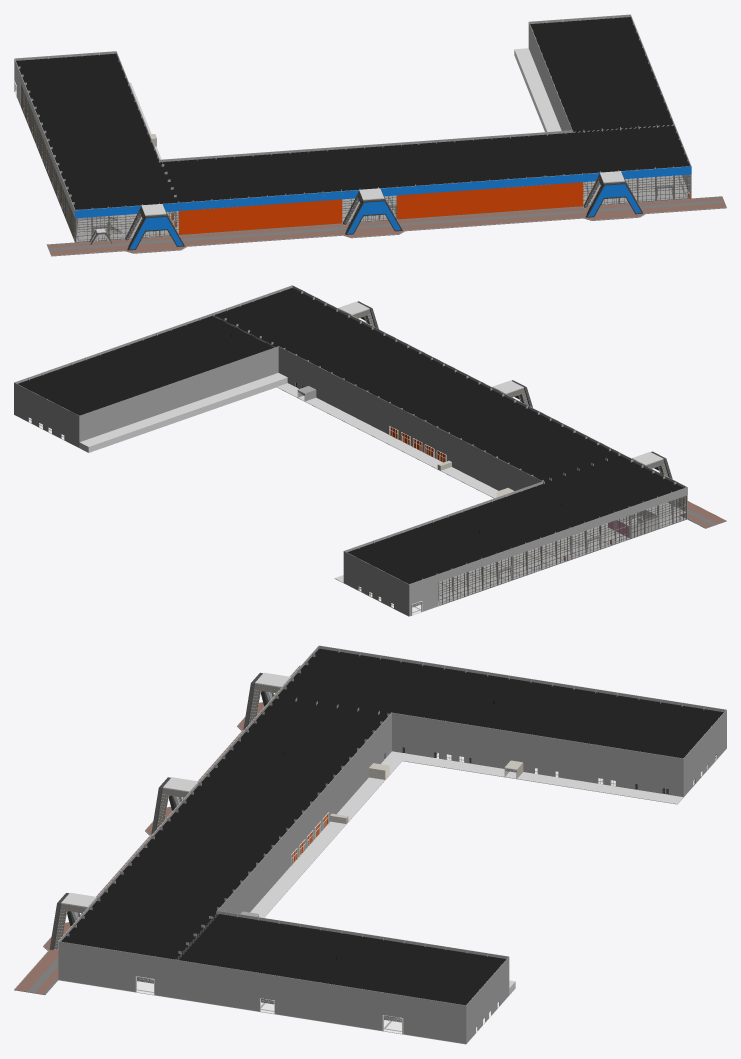
File: Hall_1_Cleaned_Test_2.glb
The picture shows the model from 3 angles, top to bottom: view 1: azimuth 30°, elevation 25°; view 2: azimuth 150°, elevation 25°; view 3: azimuth 270°, elevation 25°; orthographic projection. The views are drawn at different scales.
Visible parts, largest first — view 1: wall, long screen enterance, Pink_Poster_Between_Right&Mid_Enterence, Pink_Poster_Between_Mid&left_Enterence, left_Screen_enterance, Right_Screen_enterance, Mid_Screen_enterance; view 2: wall, left_enterance_Poster_6; view 3: wall.
Boxes of the visible parts, x1=… form: wall: x1=14, y1=14, x2=726, y2=256; long screen enterance: x1=75, y1=166, x2=691, y2=218; Pink_Poster_Between_Right&Mid_Enterence: x1=397, y1=182, x2=583, y2=219; Pink_Poster_Between_Mid&left_Enterence: x1=179, y1=199, x2=342, y2=234; left_Screen_enterance: x1=127, y1=214, x2=184, y2=250; Right_Screen_enterance: x1=586, y1=182, x2=643, y2=217; Mid_Screen_enterance: x1=345, y1=199, x2=402, y2=234; wall: x1=14, y1=285, x2=726, y2=616; left_enterance_Poster_6: x1=608, y1=510, x2=658, y2=537; wall: x1=14, y1=645, x2=726, y2=1044.
Bounding box in the file's own units: 359 × 17.46 × 286.
41 materials, 26 textured.
